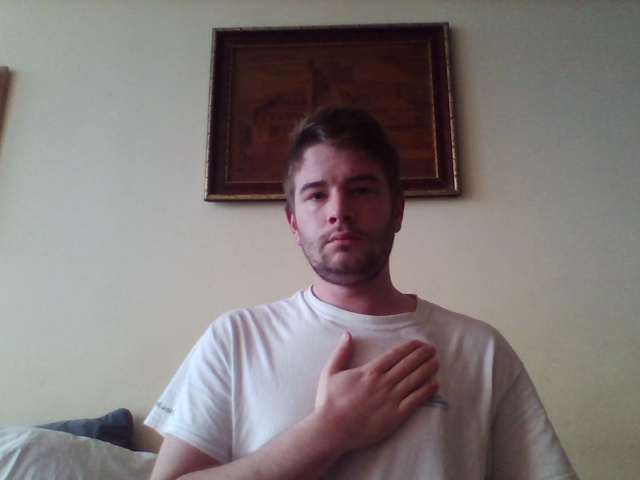molimte: (315, 327, 447, 451)
